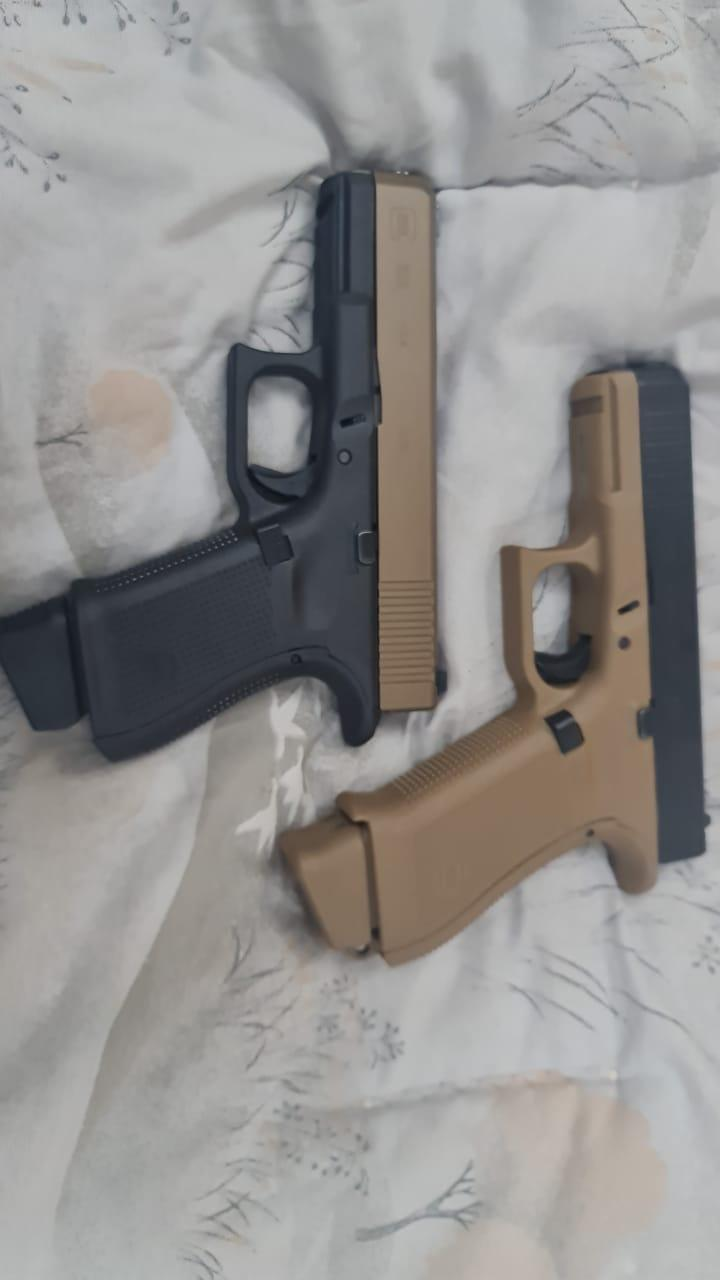weapon: (0, 165, 456, 764), (276, 358, 720, 968)
